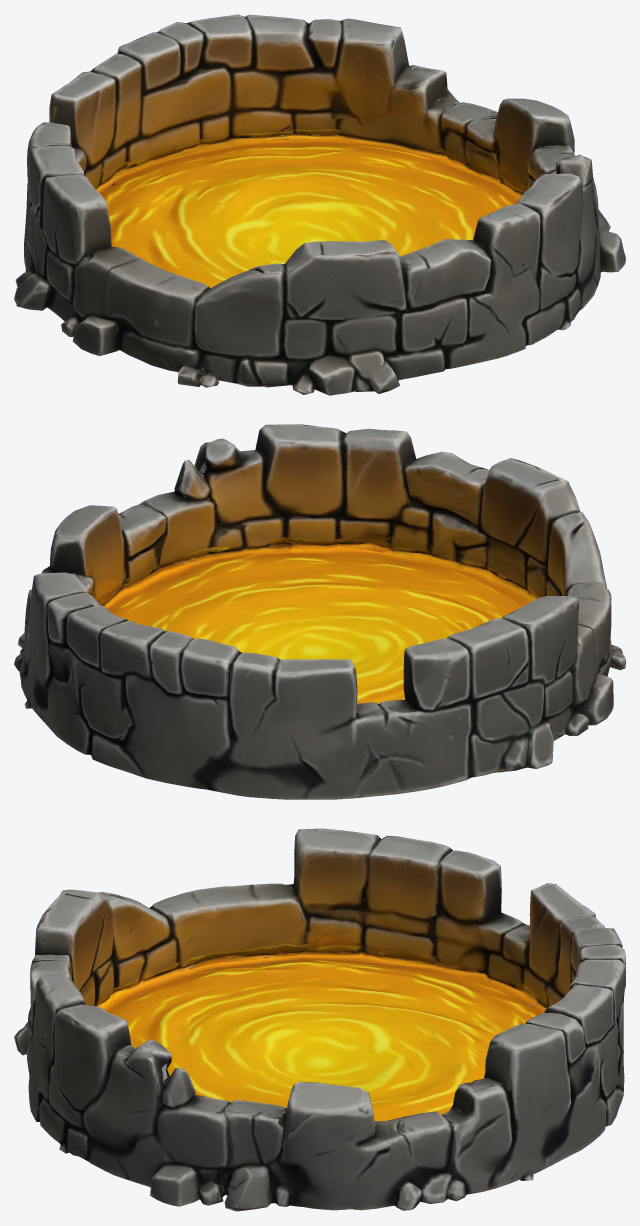
The picture shows the model from 3 angles, top to bottom: view 1: azimuth 30°, elevation 25°; view 2: azimuth 150°, elevation 25°; view 3: azimuth 270°, elevation 25°; orthographic projection. The views are drawn at different scales.
Visible parts, largest first — view 1: Magic well yellow; view 2: Magic well yellow; view 3: Magic well yellow.
Boxes of the visible parts, bbox=[...] form: Magic well yellow: bbox=[14, 14, 625, 395]; Magic well yellow: bbox=[14, 424, 625, 799]; Magic well yellow: bbox=[14, 828, 625, 1211].
Size of the model in its own units: 1.92 by 0.4781 by 1.89.
Materials: 1 (1 with a texture image).
